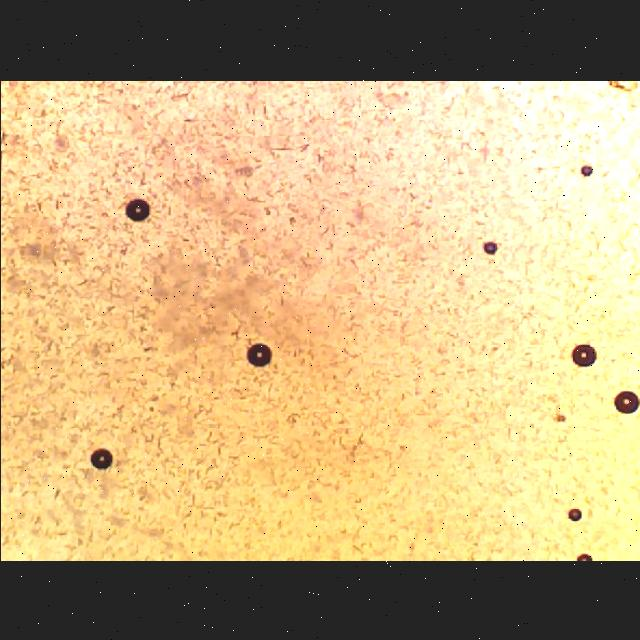microbeads: (244, 340, 270, 370), (572, 343, 596, 371), (612, 390, 636, 416)
